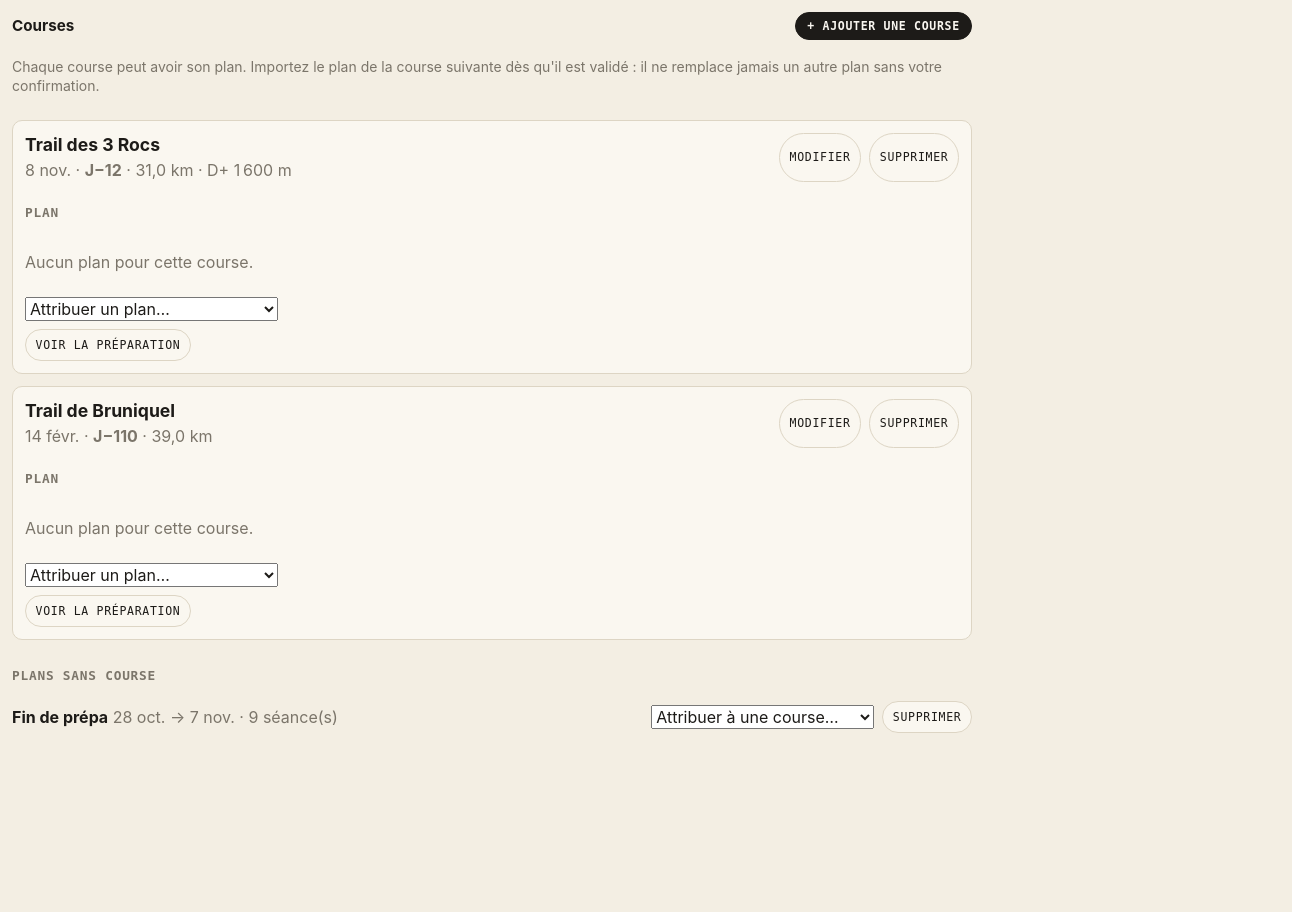
Test: Page Courses › attribue un plan sans course à une course, et détache un plan
Check: the heading "Plans sans course" is shown, box left=12, top=668, right=156, bottom=683
Select "2" in the dropdown named "Attribuer à une course" at (763,717), box left=651, top=705, right=874, bottom=729
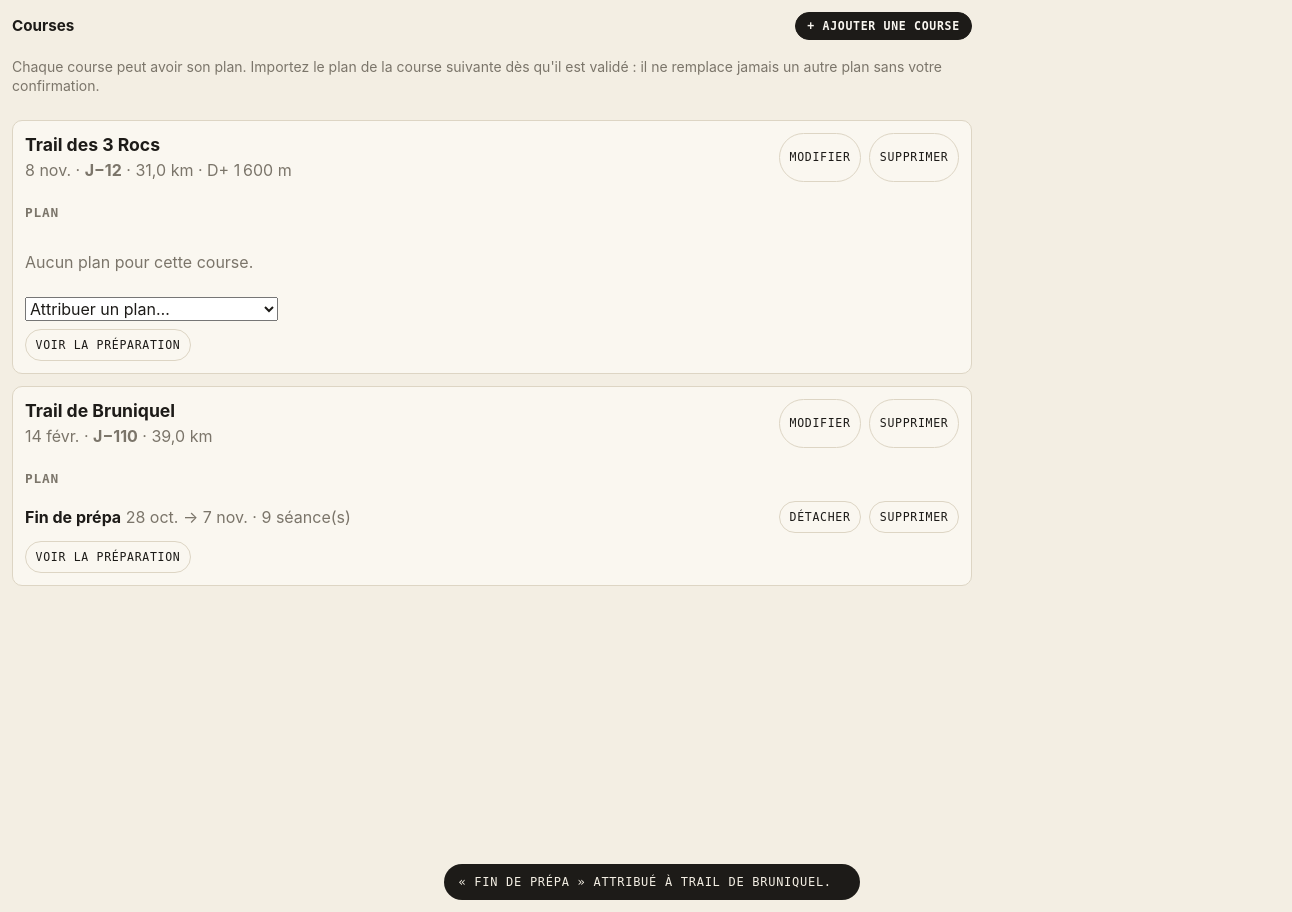
Check: the text "Fin de prépa" is shown, box left=25, top=507, right=121, bottom=527
Check: the heading "Plans sans course" is gone
Click the button "Détacher".
click(820, 517)  # box left=779, top=501, right=861, bottom=533
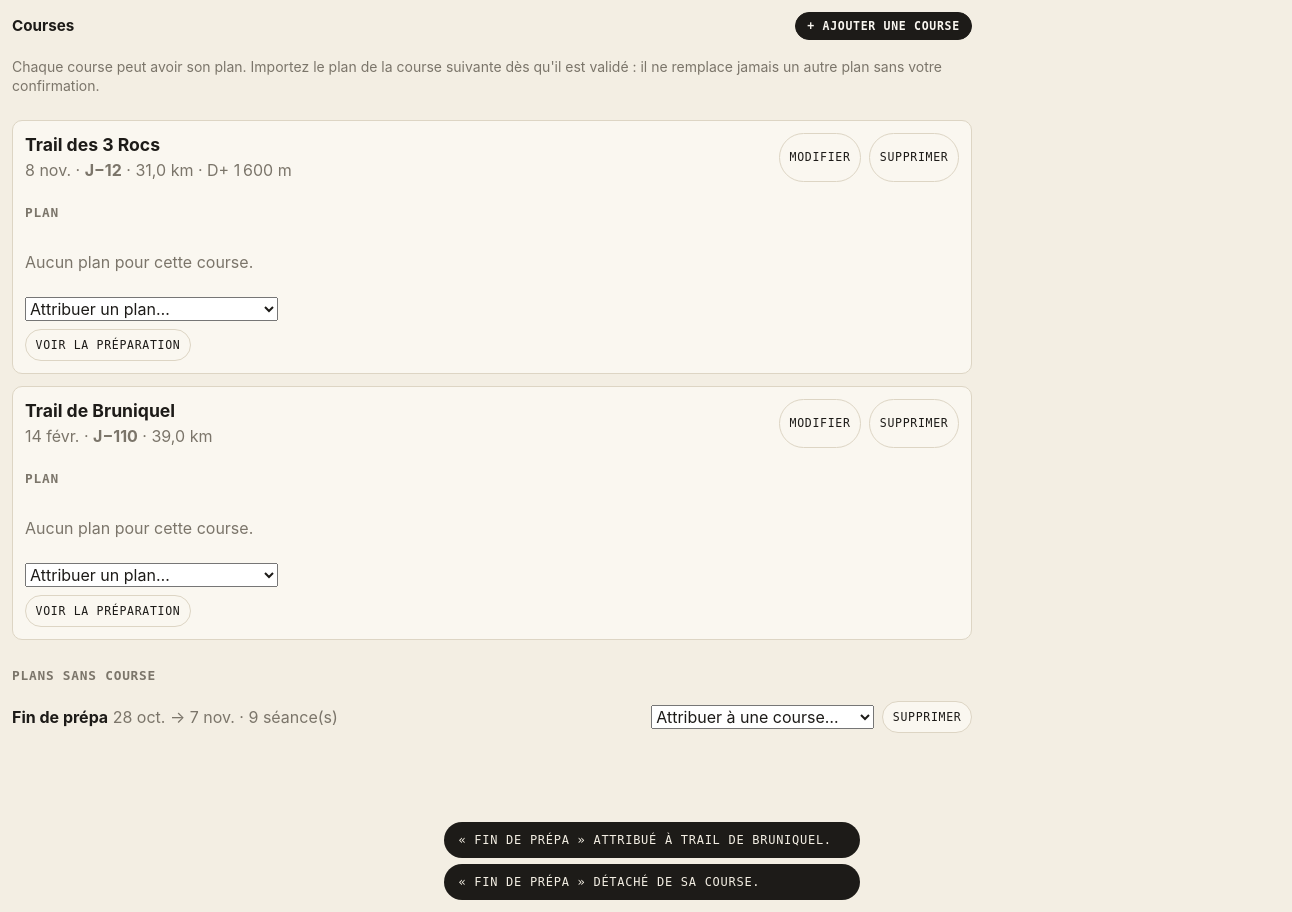
Check: the heading "Plans sans course" is shown, box left=12, top=668, right=156, bottom=683
